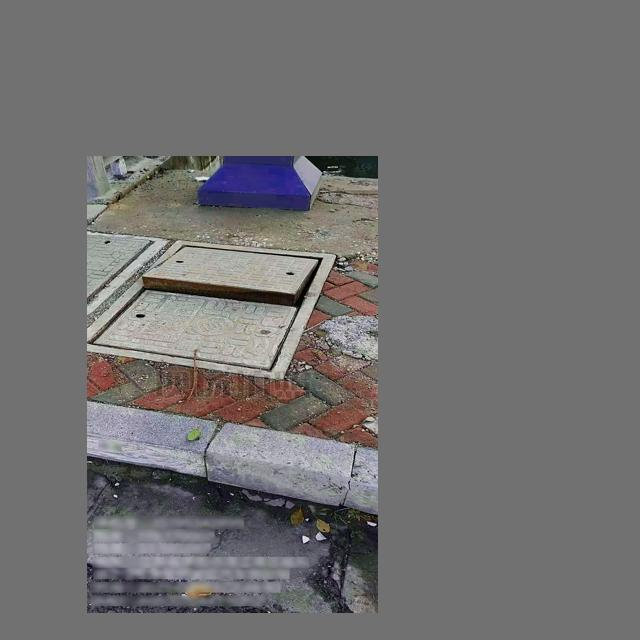uncovered: (126, 234, 319, 374)
